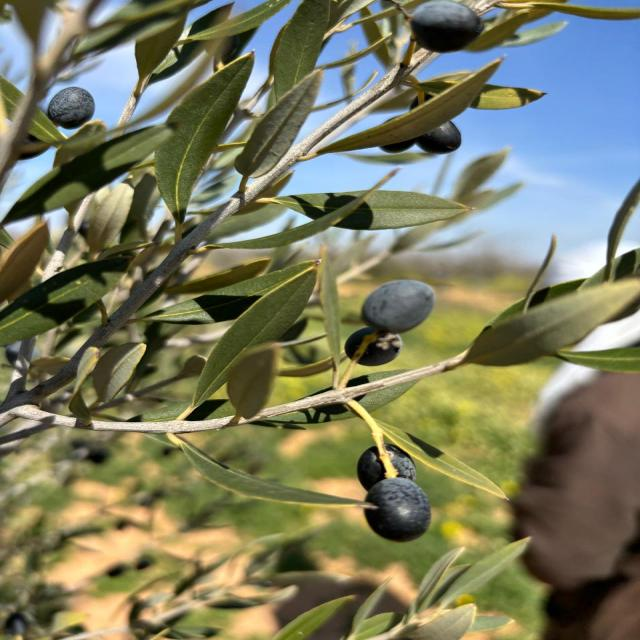Healthy: (155, 60, 253, 224), (364, 478, 430, 542), (410, 0, 483, 53), (361, 280, 435, 332)
